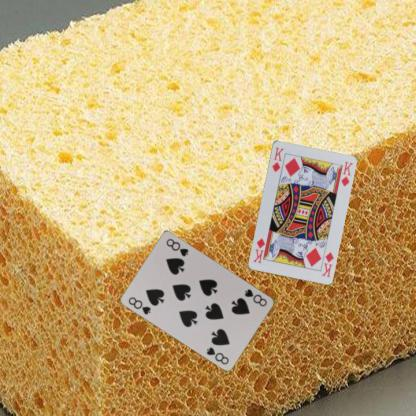8s: (126, 294, 152, 316), (242, 286, 268, 307)
Kd: (269, 144, 285, 173), (319, 250, 335, 278)
